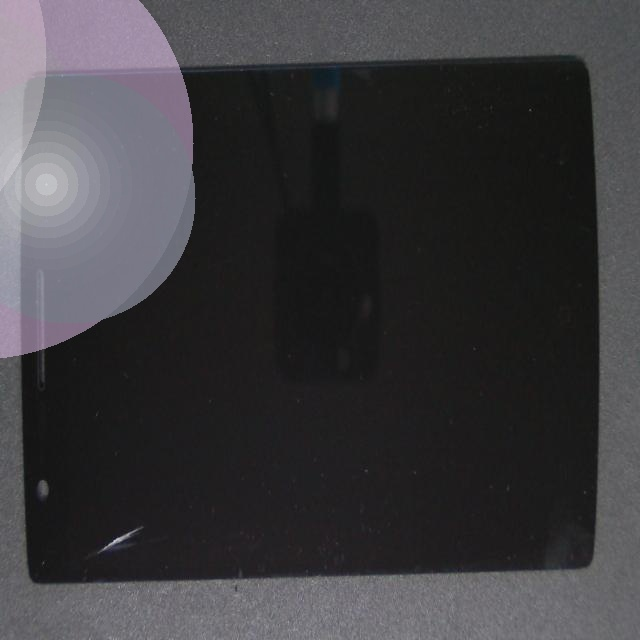scratch: (43, 251, 134, 640)
